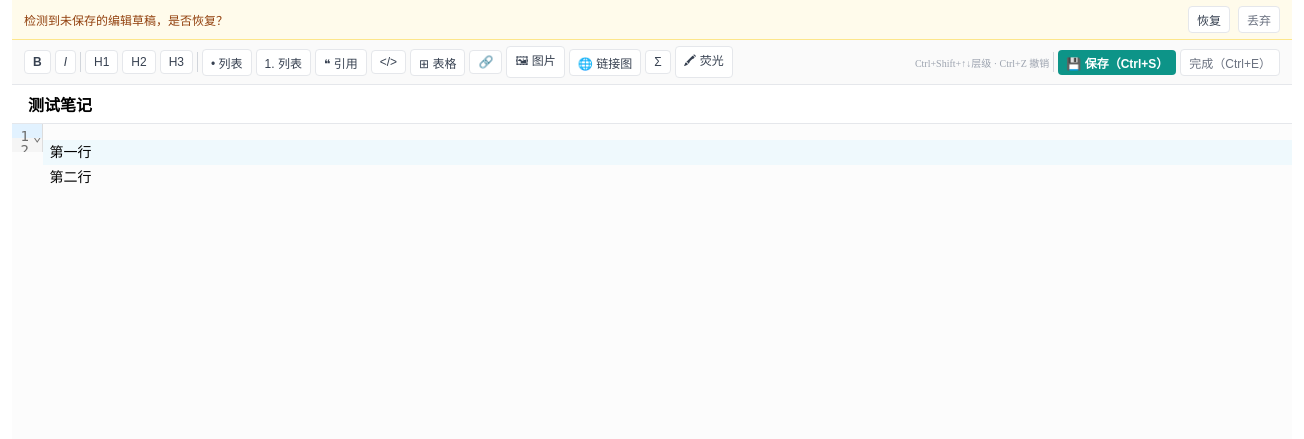
Scenario: RichEditorView 草稿恢复层 › 存在更新草稿 → 提示恢复；点恢复 → title/content 生效
Check: the text "检测到未保存的编辑草稿，是否恢复？" is shown, box [24,14,228,28]
Click the button "恢复" at (1209, 20), box [1188,6,1230,33]
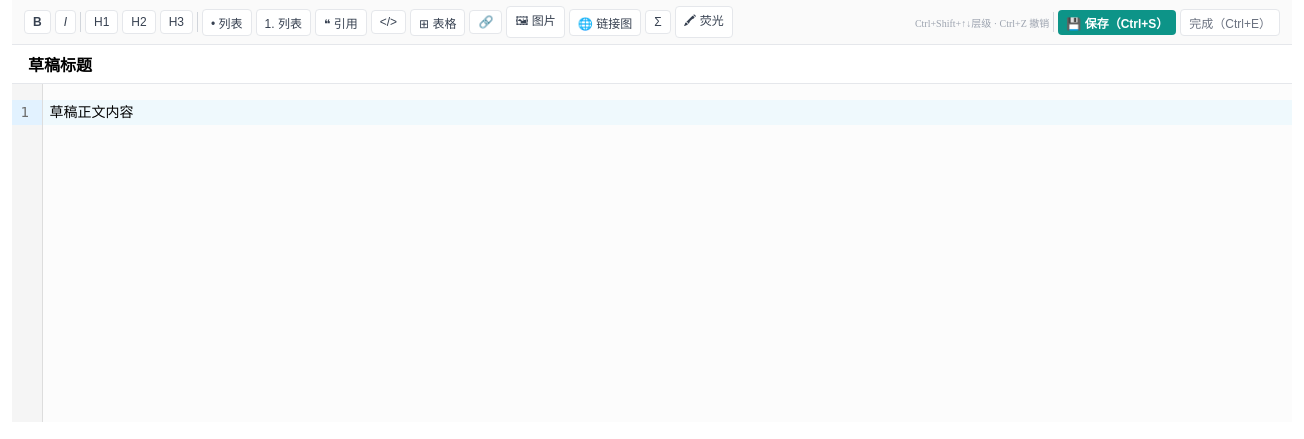
Check: the field with placeholder "笔记标题" holds "草稿标题", box [12,45,1292,84]
Check: the field with class "cm-content" reads "草稿正文内容", box [43,100,1292,125]
